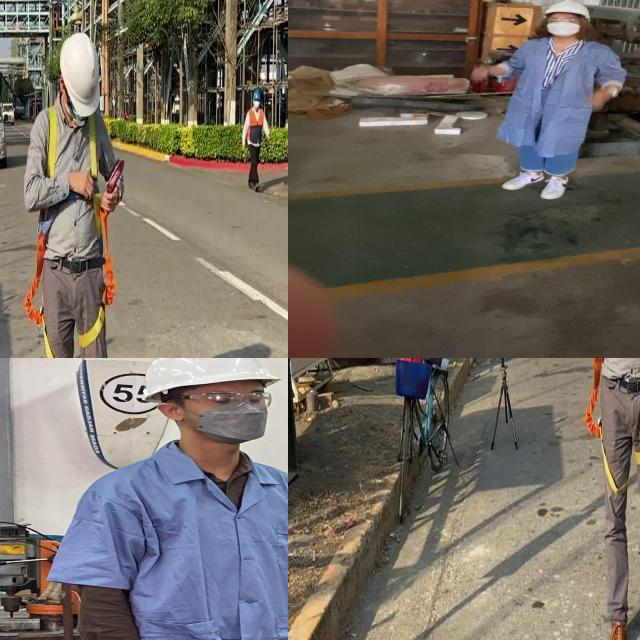Harness: (79, 194, 116, 348), (586, 358, 619, 495), (24, 229, 56, 358)
face_mask: (189, 389, 272, 444), (545, 15, 582, 37)
glasses: (155, 388, 277, 411), (546, 16, 580, 24)
hand_noglove: (466, 62, 496, 83), (584, 90, 613, 111)
head_helmet: (140, 358, 276, 391), (543, 0, 592, 19)
person: (53, 358, 288, 640), (466, 0, 626, 202)
shoes: (502, 167, 546, 191), (538, 172, 574, 200)
